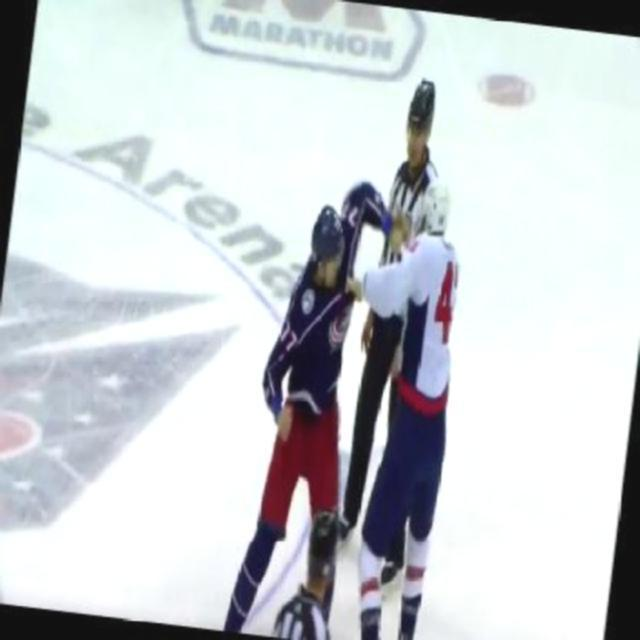fight: (228, 164, 476, 638)
